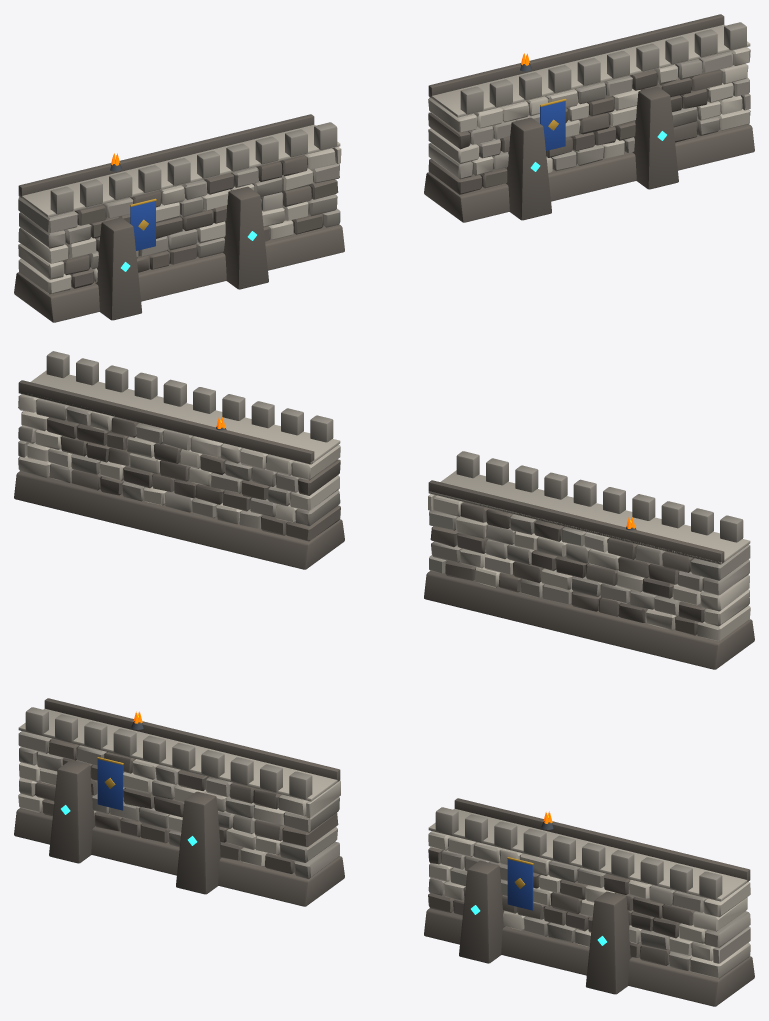
The model's file is mur_front_4.glb.
3 views of the same model, one above another, from view 1: azimuth 30°, elevation 25°; view 2: azimuth 150°, elevation 25°; view 3: azimuth 330°, elevation 25° (orthographic).
Parts seen in each view (by area): view 1: mur_front_4; view 2: mur_front_4; view 3: mur_front_4.
Boxes of the visible parts, x1=… form: mur_front_4: x1=14, y1=14, x2=754, y2=322; mur_front_4: x1=14, y1=351, x2=754, y2=669; mur_front_4: x1=14, y1=698, x2=754, y2=1006.
Bounding box in the file's own units: 36.01 × 6.12 × 4.6.
